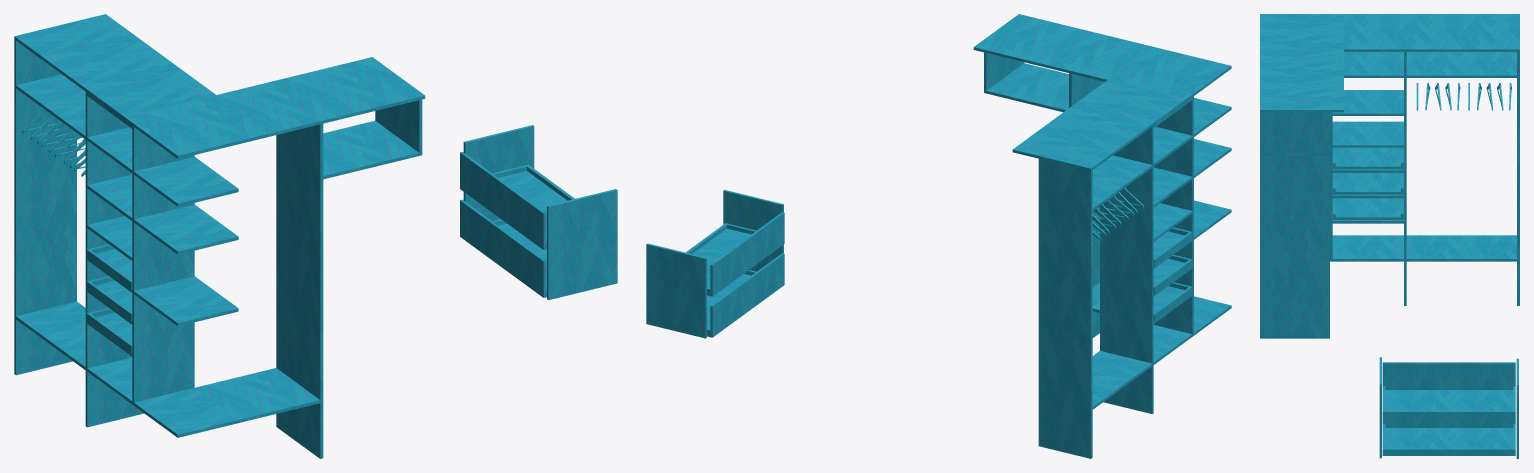
3 views of the same model, side by side, from view 1: azimuth 30°, elevation 25°; view 2: azimuth 150°, elevation 25°; view 3: azimuth 270°, elevation 25° (orthographic). The views are drawn at different scales.
Bounding box in the file's own units: 3.41 × 2.12 × 1.86.
1 material, 1 textured.
